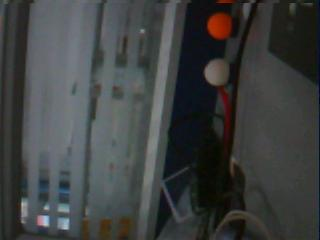oball: (207, 11, 232, 40)
